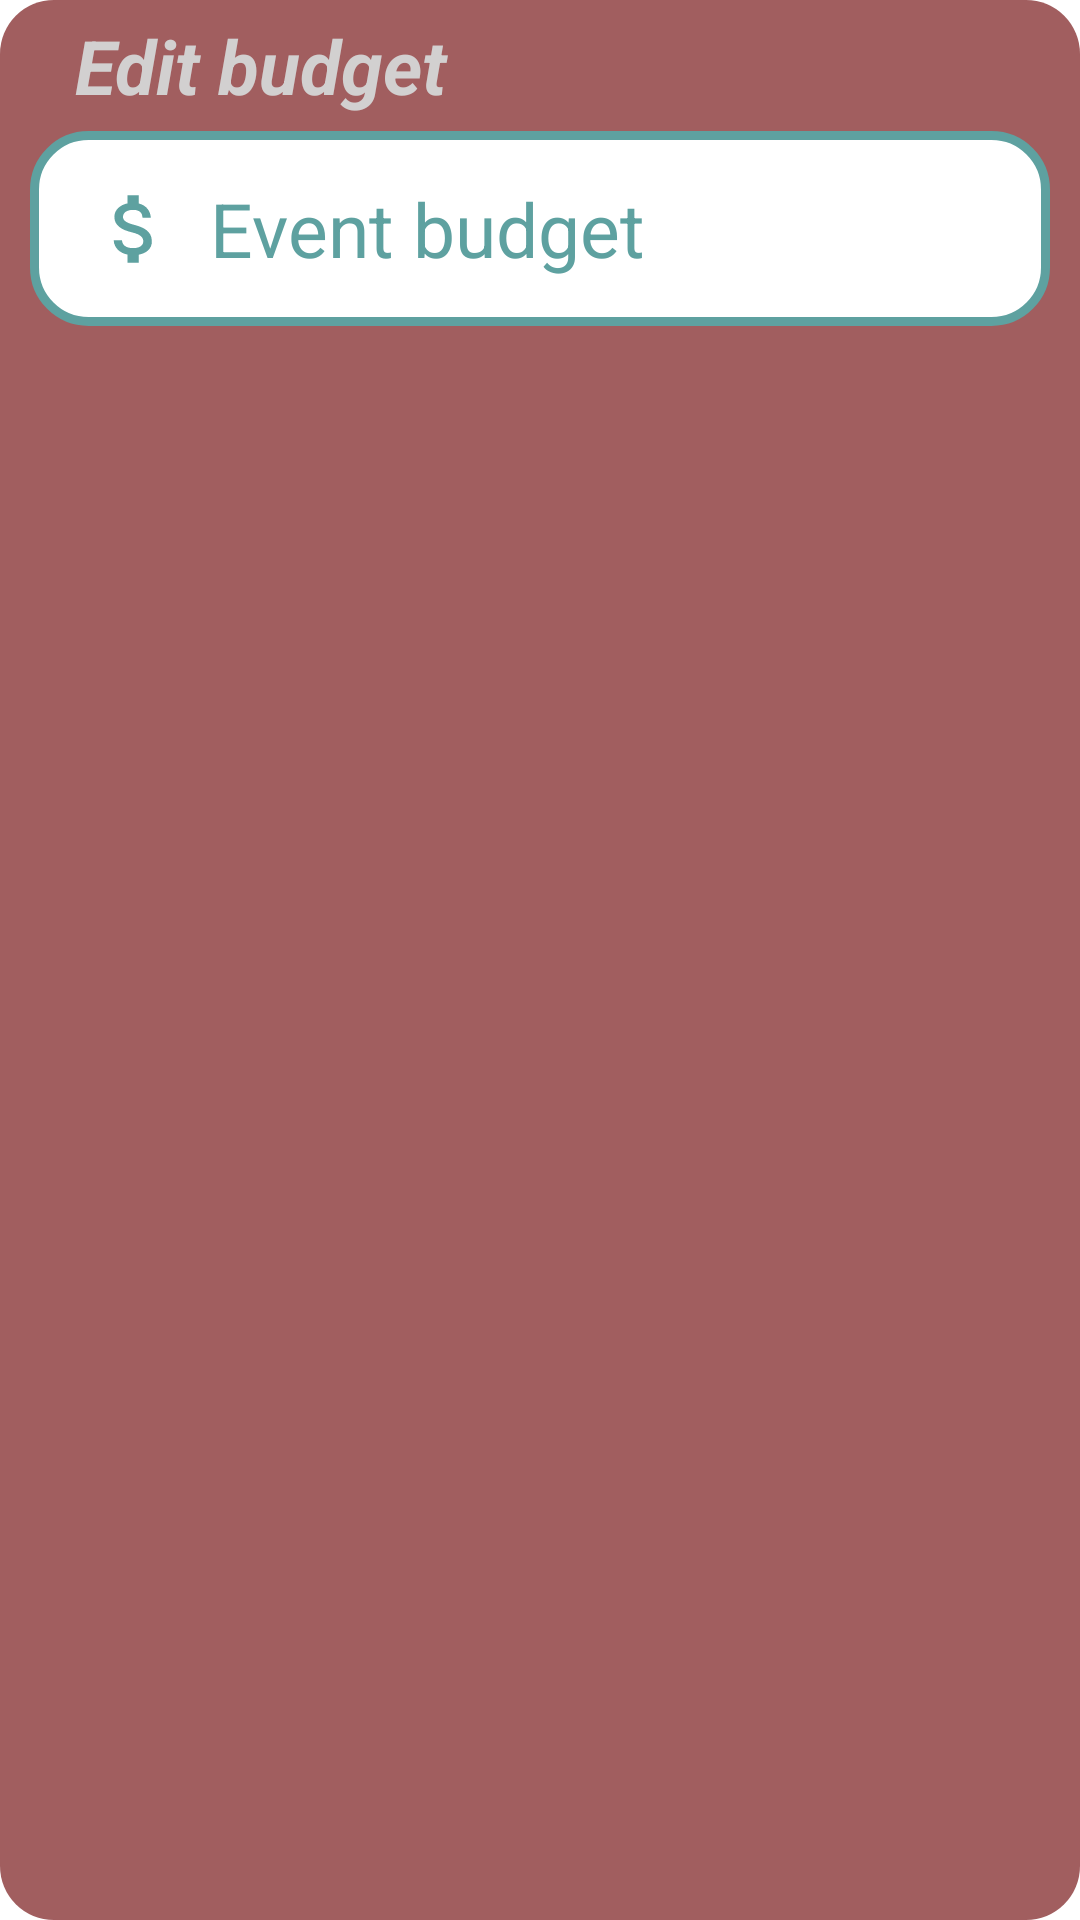

Icon click points for this 1080 × 1920 phone screenshot, format (x,y):
attach money: (132,229)
